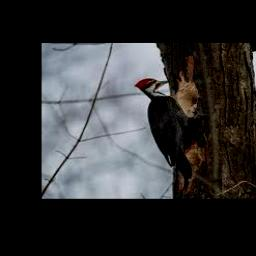Woodpecker: (135, 78, 202, 191)
